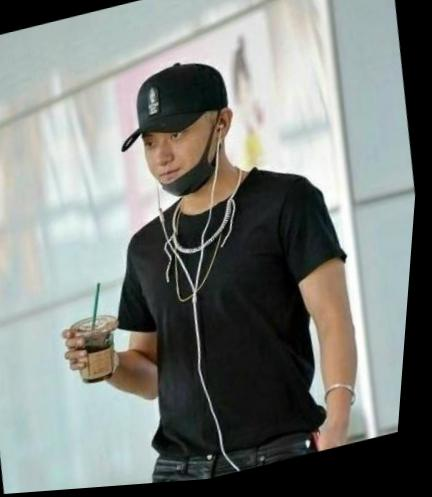WRONG: (140, 112, 231, 203)
